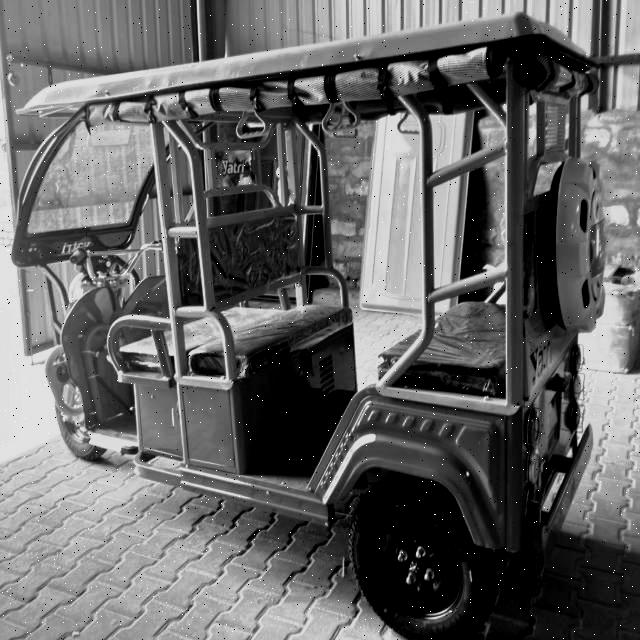Toto: (15, 13, 597, 635)
